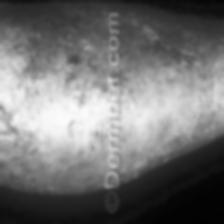Non-Cancerous Skin Condition: (122, 4, 224, 181)
